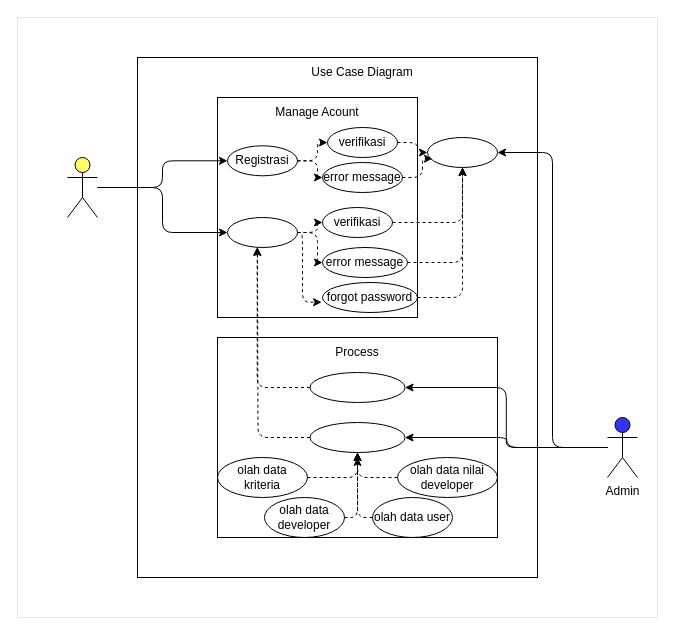
Image size: 674x634. Some labels were removed from this diagram. Here are the shapes that lost their labels. From the top down, the centre of each, then its label:
At [462,152]: "Database".
At [82,187]: "Developer".
At [262,232]: "login".
At [357,387]: "manage website".
At [357,437]: "manage data".
